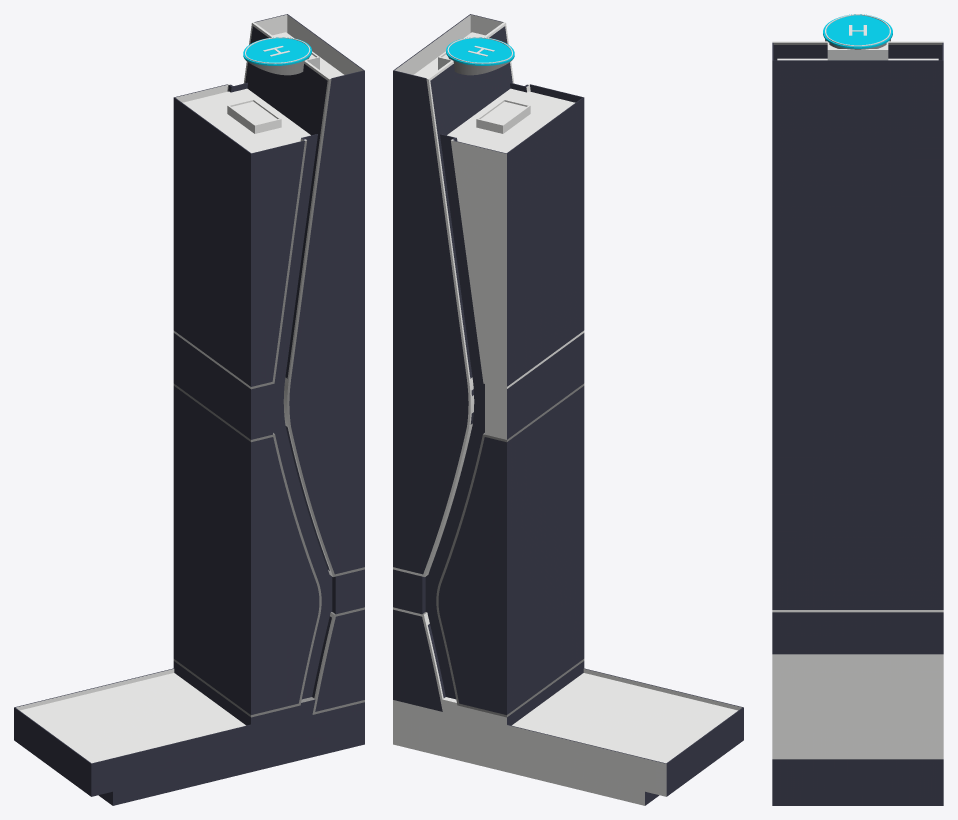
The model's file is guosen_securities_tower_10e48303.glb.
3 views of the same model, side by side, from view 1: azimuth 30°, elevation 25°; view 2: azimuth 150°, elevation 25°; view 3: azimuth 270°, elevation 25° (orthographic). The views are drawn at different scales.
Parts seen in each view (by area): view 1: guosen_securities_tower_10e48303; view 2: guosen_securities_tower_10e48303; view 3: guosen_securities_tower_10e48303.
Part boxes in pixels (<box>): guosen_securities_tower_10e48303: <box>14,14,364,805</box>; guosen_securities_tower_10e48303: <box>393,14,743,805</box>; guosen_securities_tower_10e48303: <box>772,14,943,805</box>.
Bounding box in the file's own units: 90.09 × 213 × 44.1.
1 material, 1 textured.
